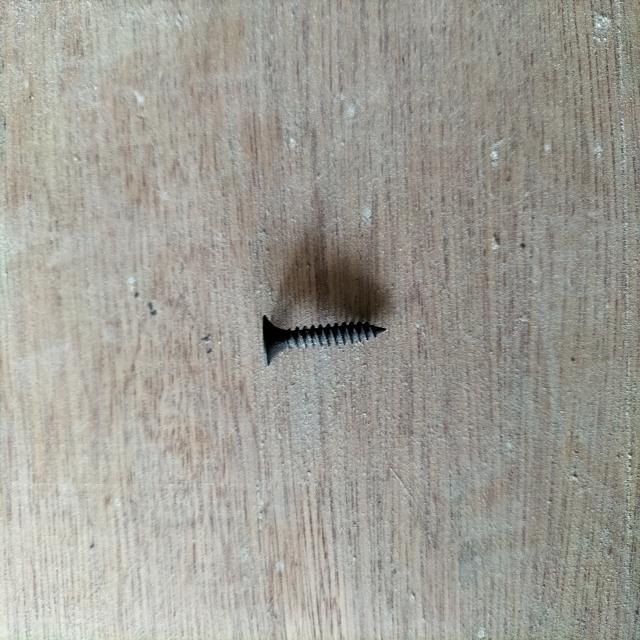screw: (261, 314, 388, 367)
